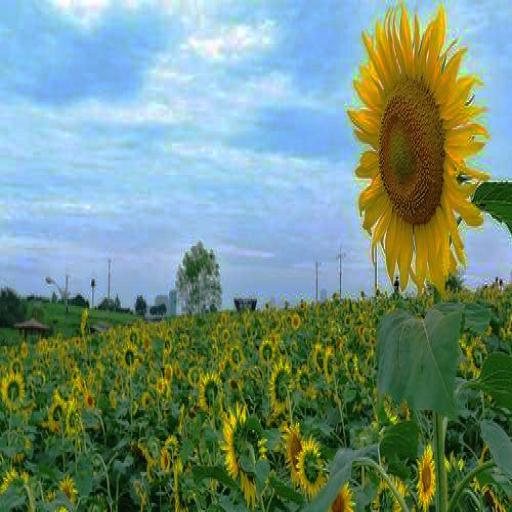sunflower: (348, 11, 484, 288), (415, 443, 438, 512), (222, 403, 244, 472), (297, 437, 323, 494), (269, 363, 295, 410), (285, 421, 303, 483), (197, 372, 224, 410), (327, 484, 356, 512)
